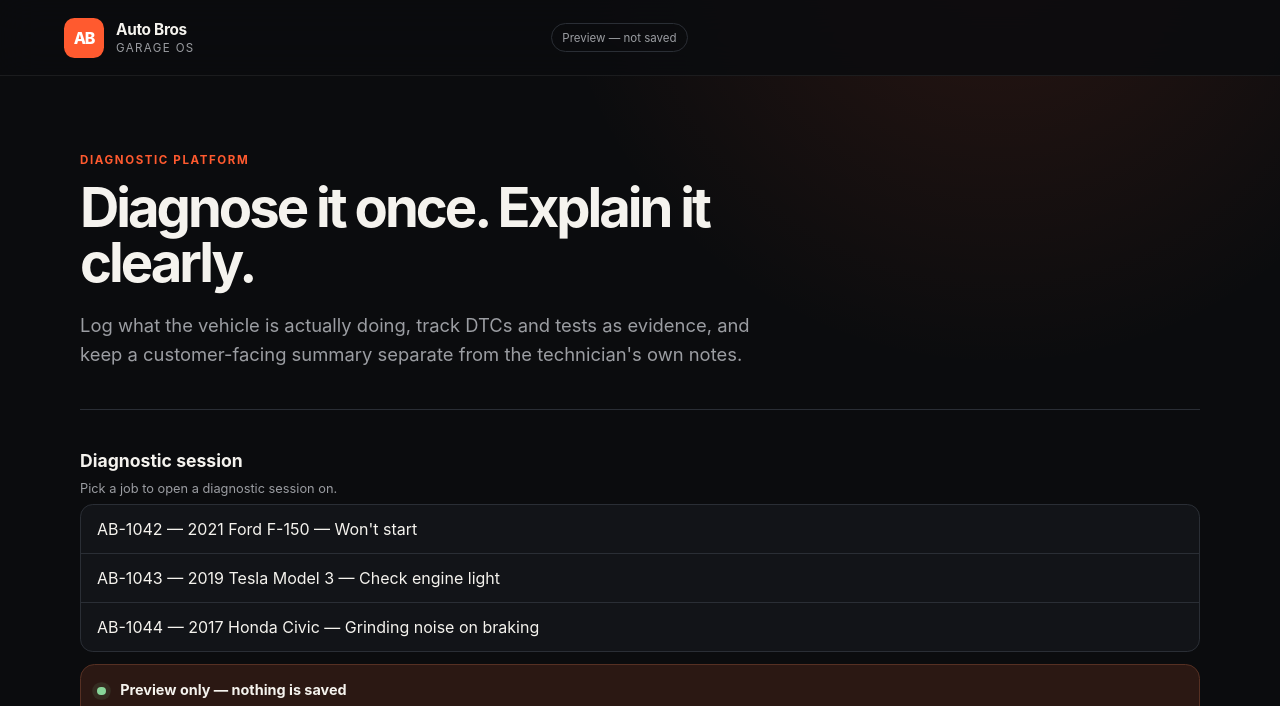
DiagnosticsPage › moves a finding through testing before it can be confirmed, recording the confirming technician
Click the button "AB-1042 — 2021 Ford F-150 — Won't start" at (257,529), box [81,505,1199,553]
(page scrolled)
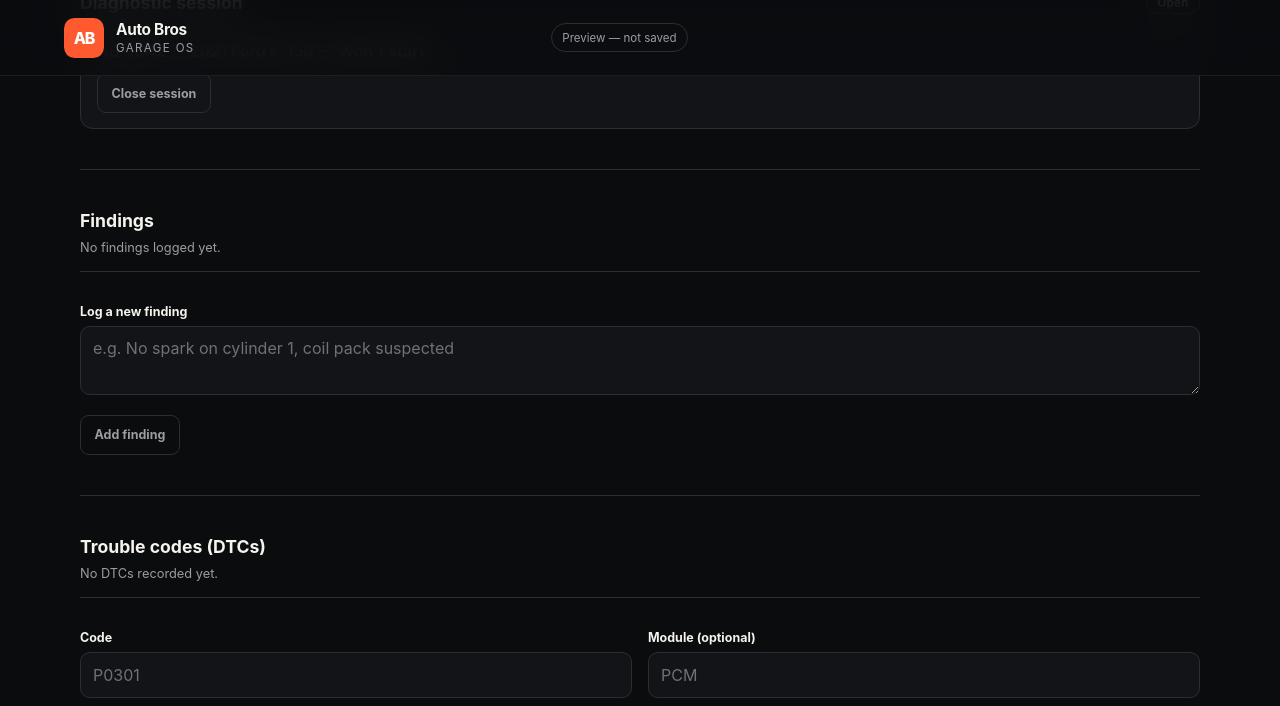
Type "No spark on cylinder 1" into the text box labelled "Log a new finding" at (640,360), box [80,326,1200,395]
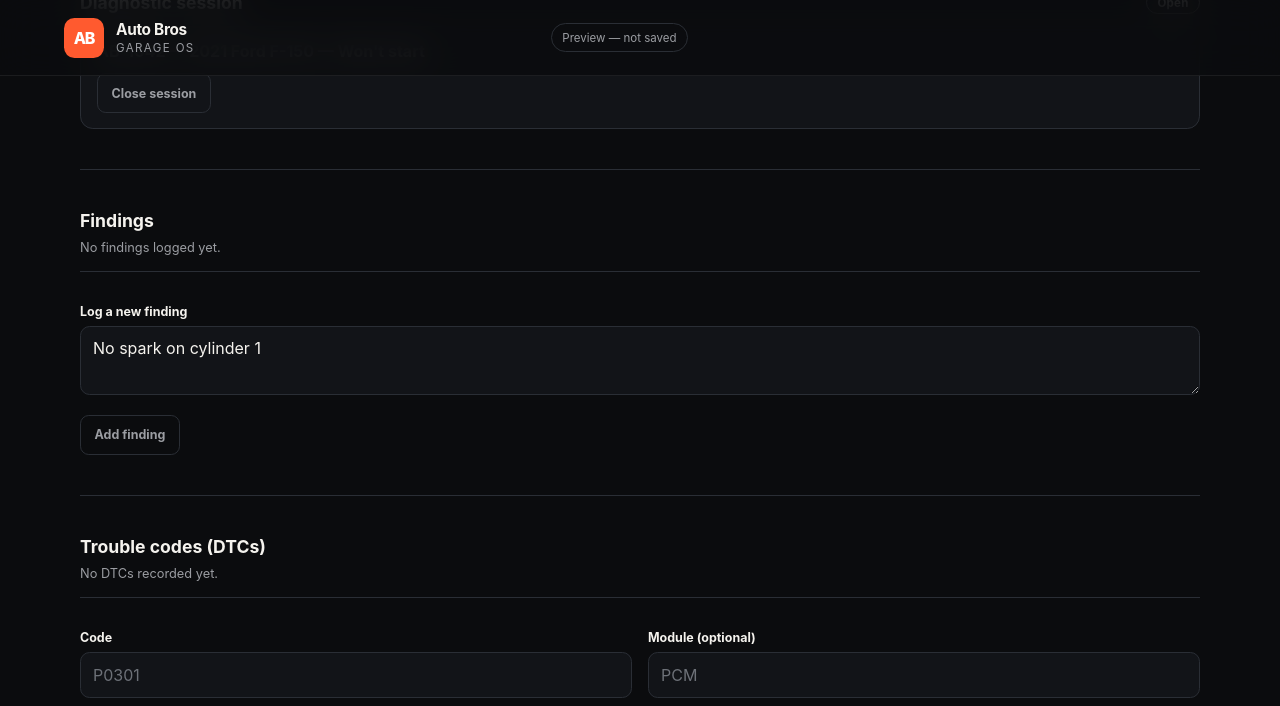
Click the button "Add finding" at (130,435), box [80,415,180,455]
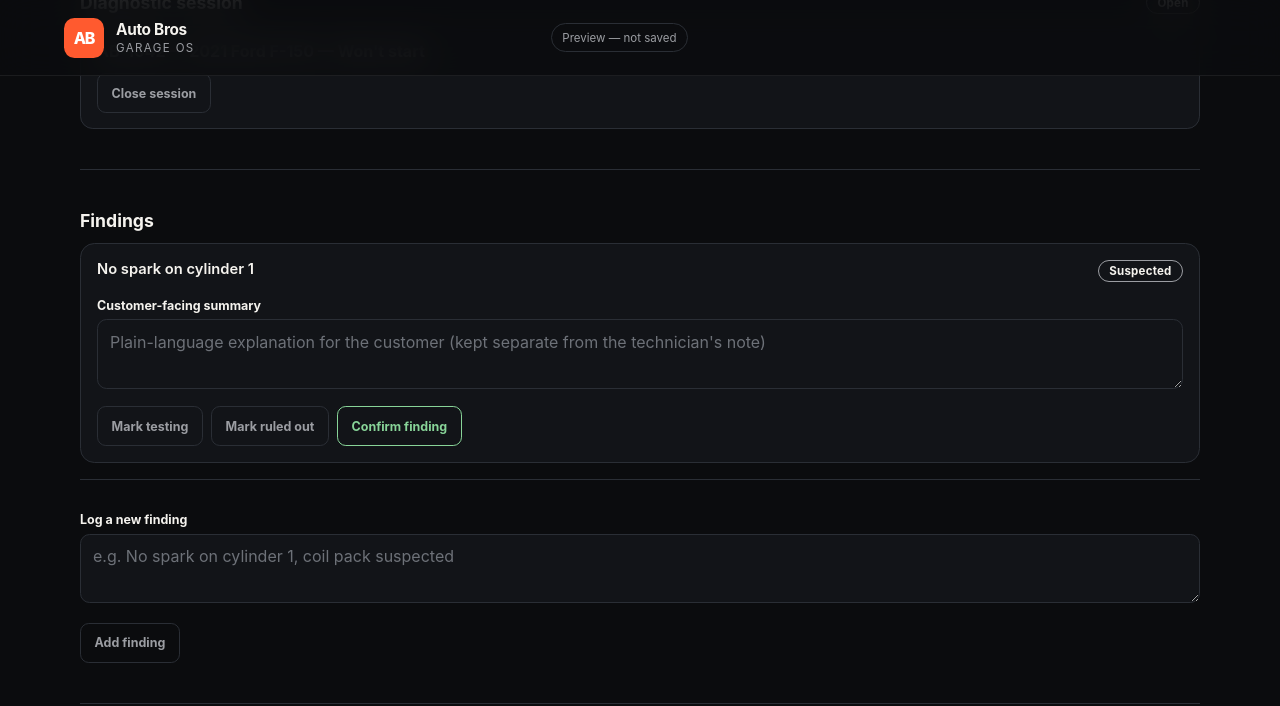
Click the button "Mark testing" at (150,426), box [97,406,203,446]
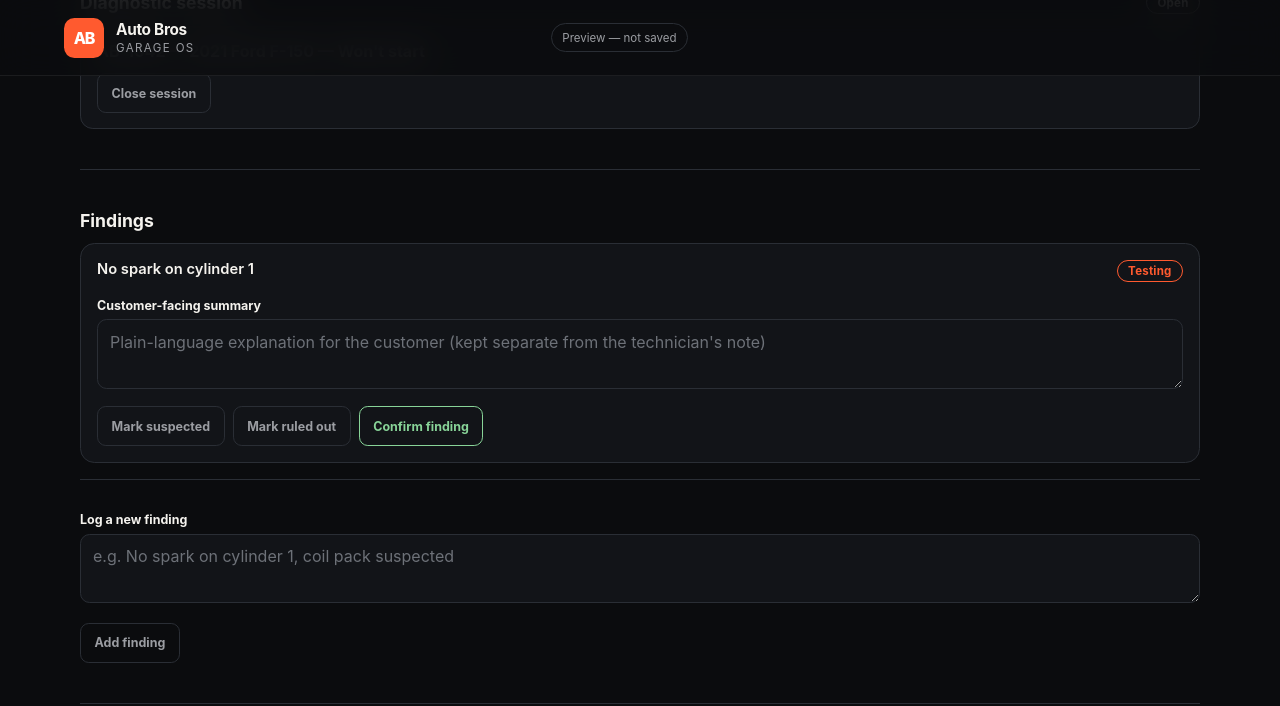
Result: the text "Testing" is shown at [1117,260,1183,282]
Click the button "Confirm finding" at (421,426), box [359,406,484,446]
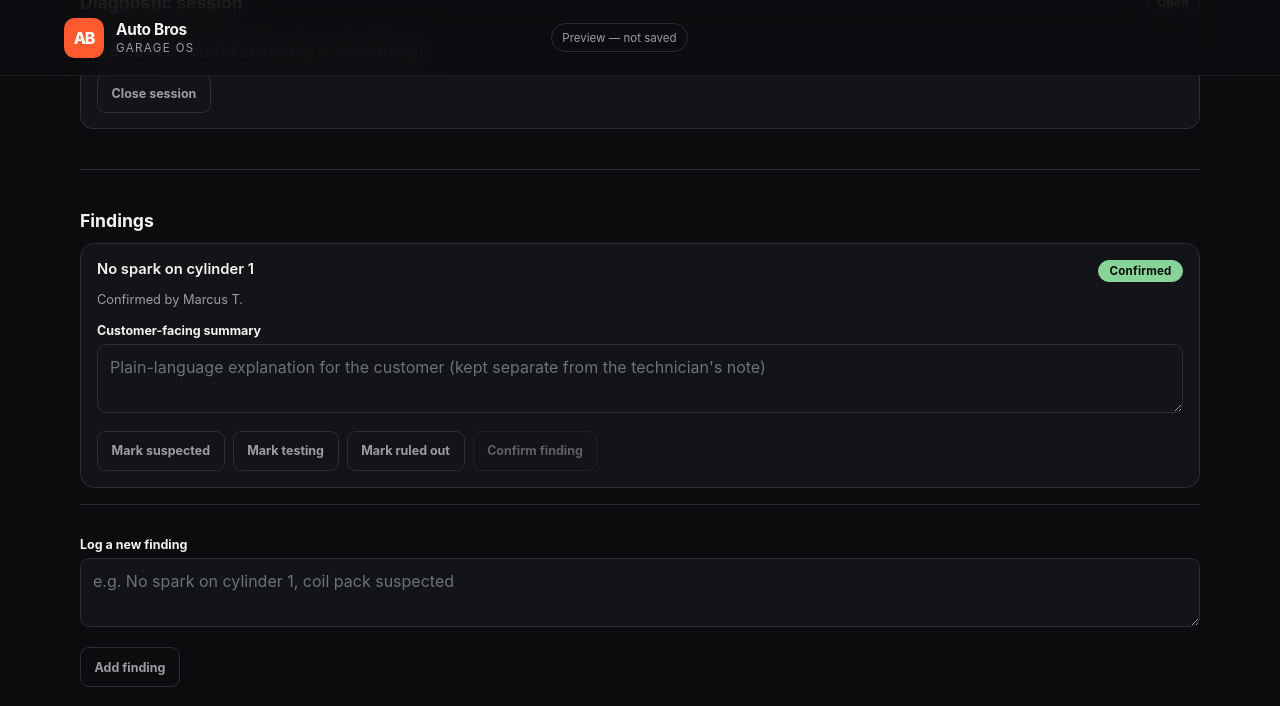
Result: the text "Confirmed" is shown at [1098,260,1183,282]
Result: the text "Confirmed by Marcus T." is shown at [97,292,243,307]
Result: the button "Confirm finding" is disabled at [472,431,597,471]
